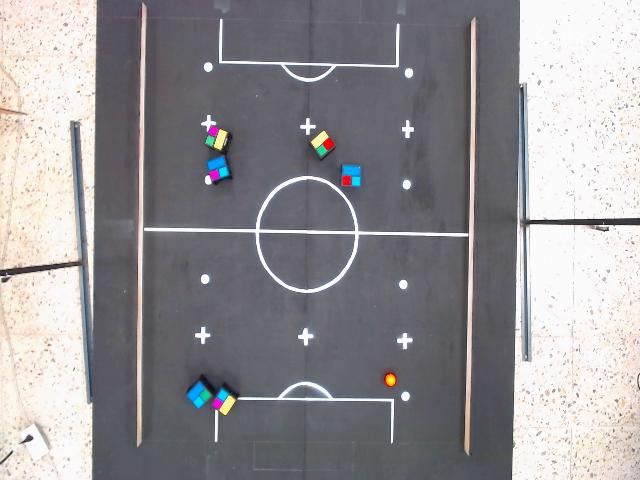robot: (309, 128, 337, 162), (185, 379, 213, 412), (211, 388, 237, 417), (206, 154, 231, 183), (204, 125, 229, 152), (339, 163, 363, 190)
